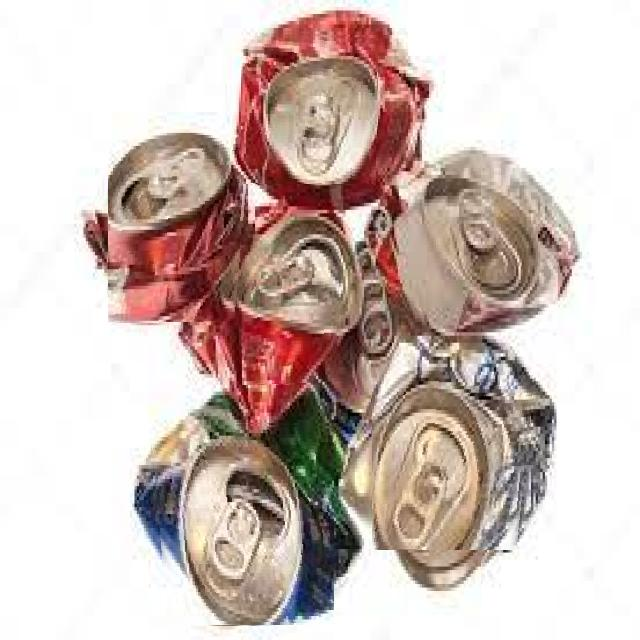Cans: (150, 421, 334, 625), (372, 369, 535, 550), (108, 135, 251, 324), (241, 29, 378, 184), (387, 198, 576, 310), (242, 238, 340, 385)
